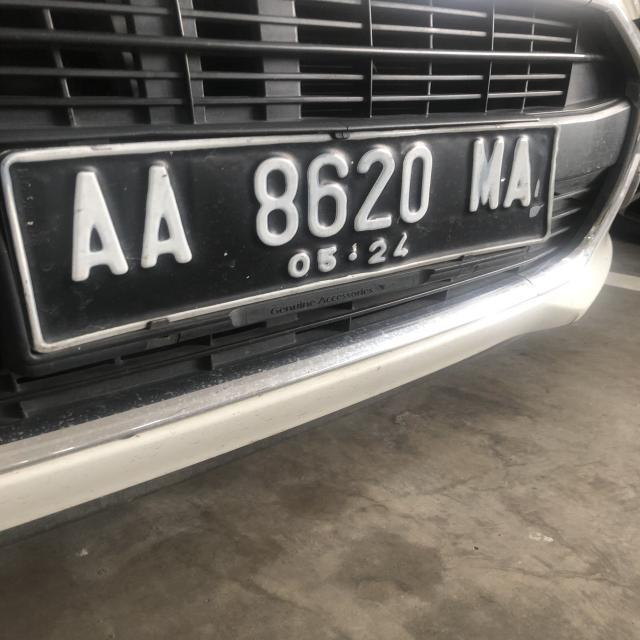0: (398, 143, 437, 224)
2: (350, 146, 400, 234)
6: (302, 146, 348, 242)
8: (251, 152, 303, 250)
A: (61, 167, 127, 286), (136, 162, 194, 274), (502, 134, 538, 207)
M: (460, 135, 506, 214)
